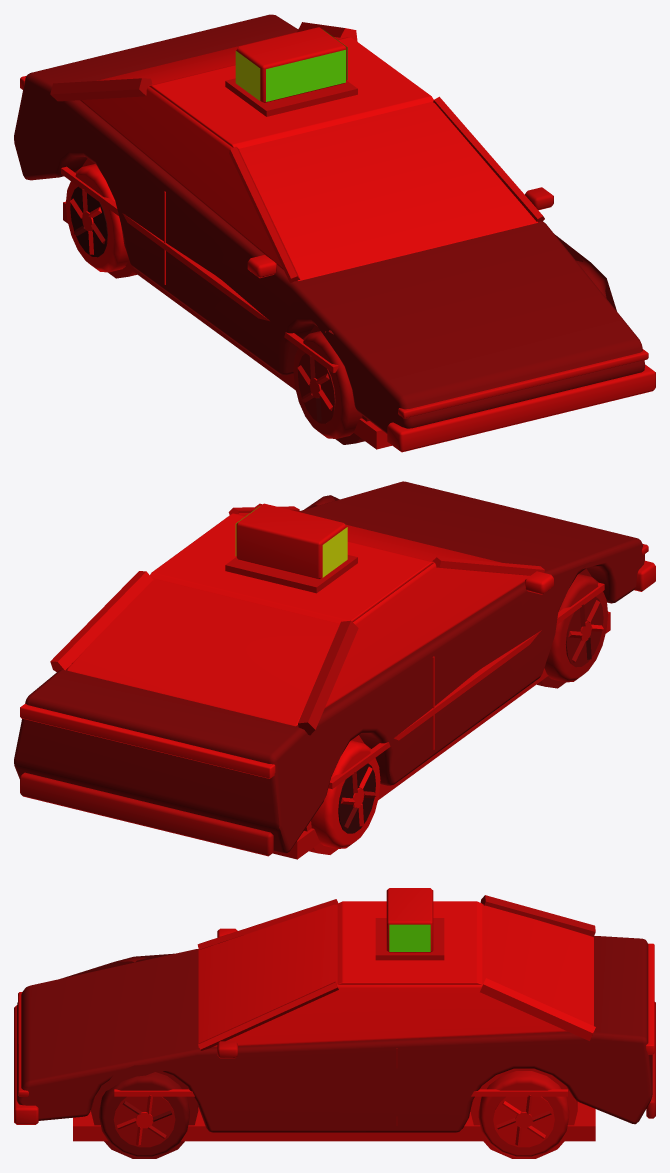
File: car_wedge.glb
3 renders of one model, top to bottom at view 1: azimuth 30°, elevation 25°; view 2: azimuth 150°, elevation 25°; view 3: azimuth 270°, elevation 25°, orthographic. The views are drawn at different scales.
Parts seen in each view (by area): view 1: car_wedge, wheel_0, wheel_2; view 2: car_wedge, wheel_2, wheel_0; view 3: car_wedge, wheel_3, wheel_1.
Part boxes in pixels (bbox=[...]): car_wedge: bbox=[14, 14, 655, 452]; wheel_0: bbox=[293, 331, 362, 438]; wheel_2: bbox=[65, 164, 128, 272]; car_wedge: bbox=[14, 481, 655, 859]; wheel_2: bbox=[311, 740, 380, 848]; wheel_0: bbox=[544, 574, 607, 682]; car_wedge: bbox=[14, 888, 655, 1158]; wheel_3: bbox=[478, 1071, 569, 1157]; wheel_1: bbox=[99, 1072, 189, 1157].
Bounding box in the file's own units: 2.08 × 1.67 × 4.67.
